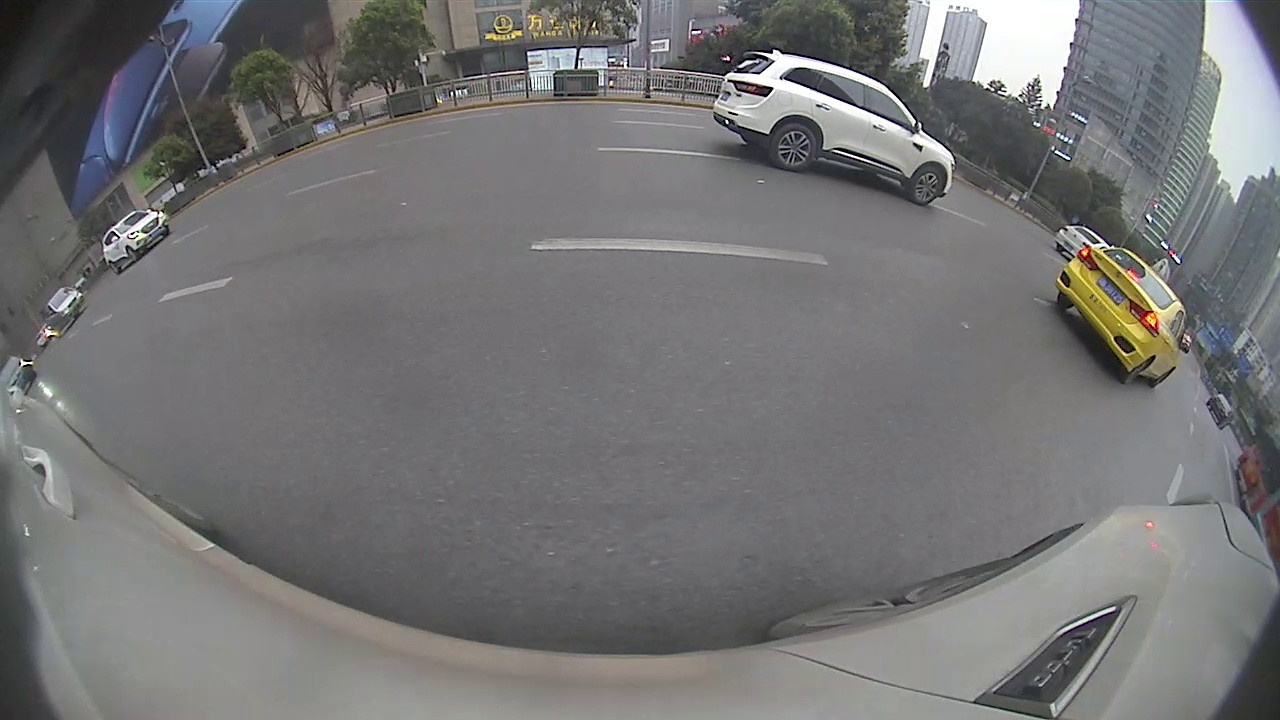car: (712, 48, 958, 207), (1054, 246, 1193, 390), (101, 208, 172, 276), (1053, 223, 1110, 262)
front: (909, 167, 948, 207), (124, 247, 138, 264)
rear: (766, 117, 820, 171), (1121, 358, 1153, 385), (107, 262, 121, 275)
